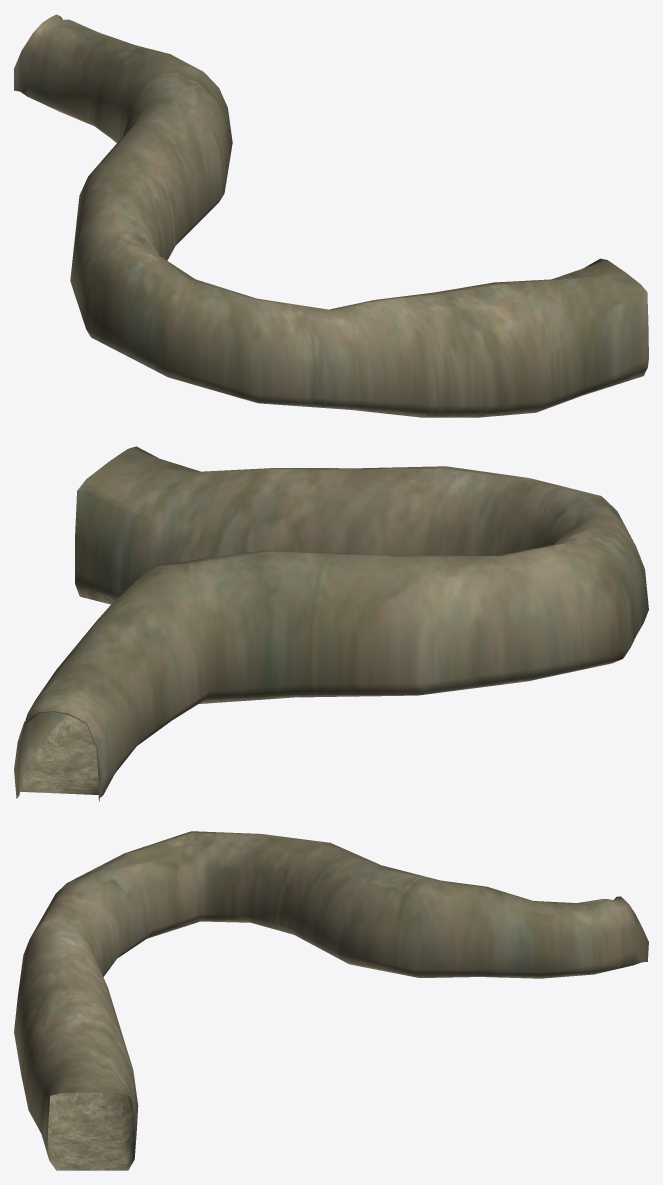
The model's file is OVERHILL_A_01_OH_CAVE_2B.fbx.
3 views of the same model, one above another, from view 1: azimuth 30°, elevation 25°; view 2: azimuth 150°, elevation 25°; view 3: azimuth 270°, elevation 25° (orthographic). The views are drawn at different scales.
Parts seen in each view (by area): view 1: OVERHILL_A_01_OH_CAVE_2B; view 2: OVERHILL_A_01_OH_CAVE_2B; view 3: OVERHILL_A_01_OH_CAVE_2B.
Boxes of the visible parts, left/top/right/bottom form: OVERHILL_A_01_OH_CAVE_2B: left=14, top=14, right=648, bottom=417; OVERHILL_A_01_OH_CAVE_2B: left=14, top=446, right=648, bottom=801; OVERHILL_A_01_OH_CAVE_2B: left=14, top=831, right=648, bottom=1170.
Bounding box in the file's own units: 166874 × 72584 × 221956.
1 material, 1 textured.
